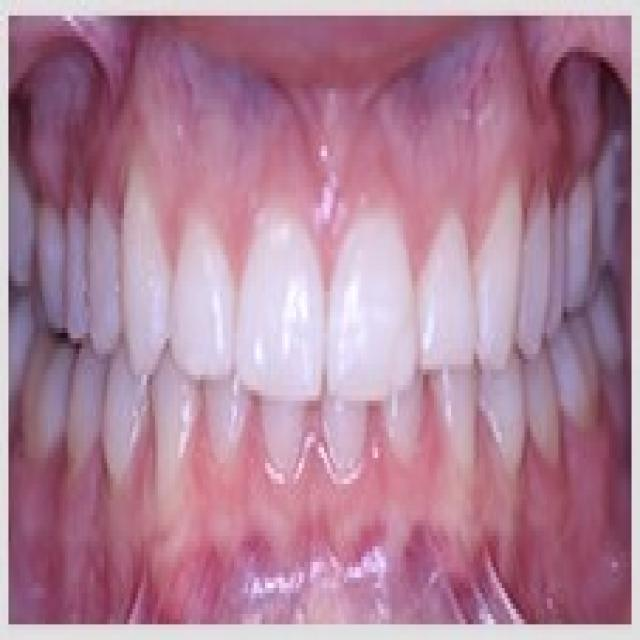tooth: (237, 208, 327, 411), (327, 208, 414, 411), (166, 234, 223, 385), (420, 218, 474, 374), (479, 177, 519, 369), (122, 182, 166, 344), (245, 406, 313, 505), (20, 333, 70, 453), (524, 187, 558, 354), (102, 359, 150, 468), (200, 380, 254, 468), (40, 203, 76, 333), (564, 182, 598, 302), (310, 396, 364, 468), (88, 213, 121, 328), (442, 364, 477, 468), (488, 364, 524, 463), (530, 364, 561, 458)
